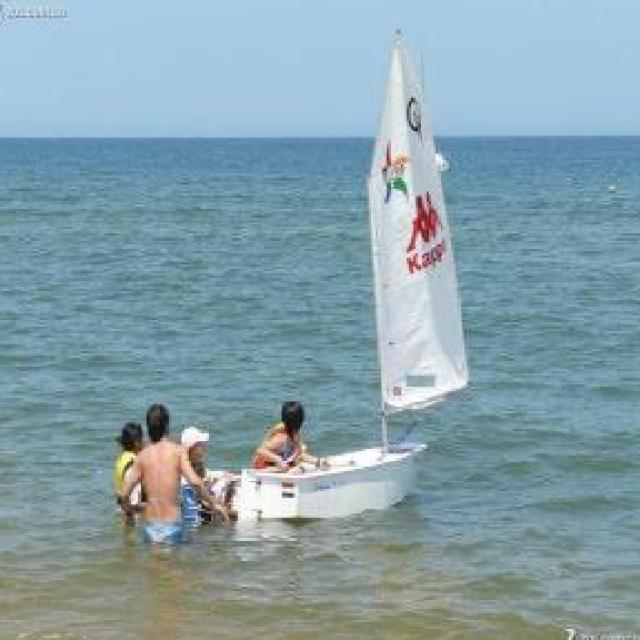sailboat: (233, 34, 476, 518)
